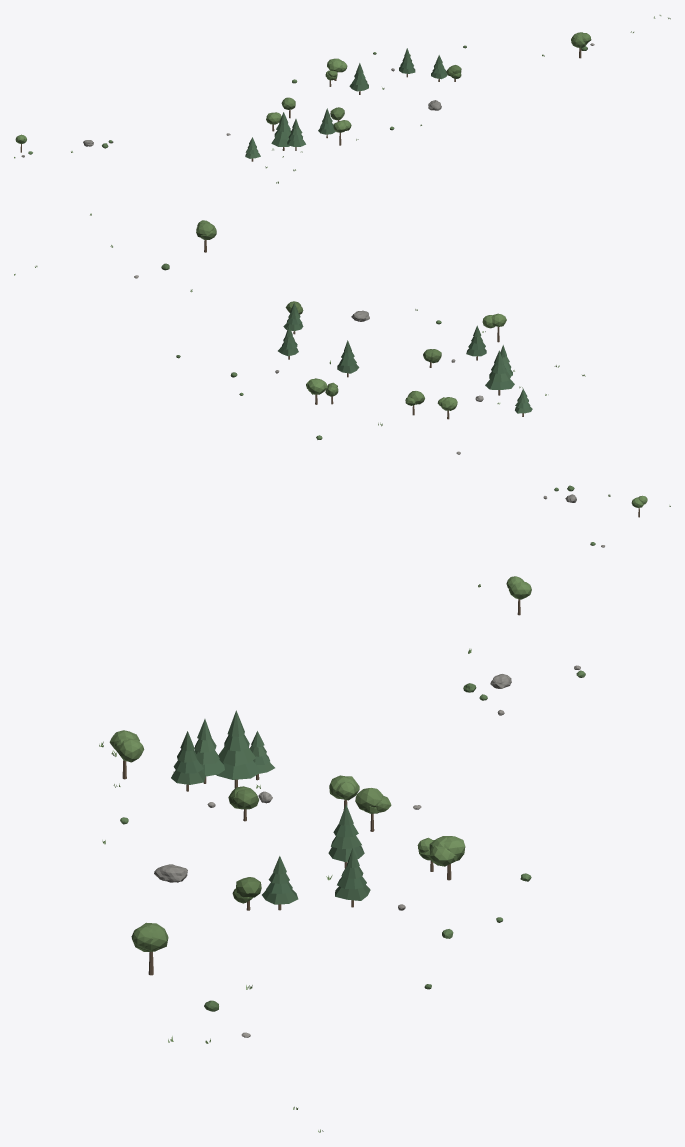
The model's file is arch_land_scatter_c20_18.glb.
3 views of the same model, one above another, from view 1: azimuth 30°, elevation 25°; view 2: azimuth 150°, elevation 25°; view 3: azimuth 270°, elevation 25° (orthographic). The views are drawn at different scales.
Visible parts, largest first — view 1: arch_land_scatter_c20_18; view 2: arch_land_scatter_c20_18; view 3: arch_land_scatter_c20_18.
Boxes of the visible parts, bbox=[...] form: arch_land_scatter_c20_18: bbox=[14, 15, 670, 183]; arch_land_scatter_c20_18: bbox=[14, 213, 670, 547]; arch_land_scatter_c20_18: bbox=[99, 576, 585, 1132].
Size of the model in its own units: 237 by 34.35 by 82.16.
